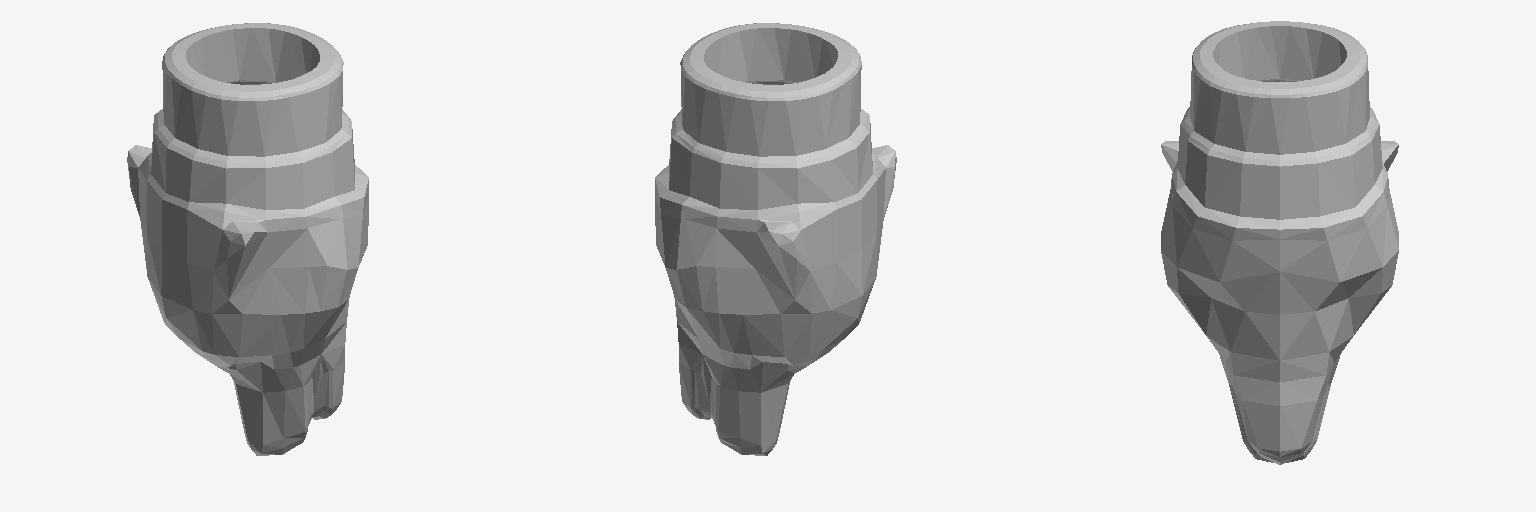
Rendered from LongClawWolf.obj.
The picture shows the model from 3 angles: view 1: azimuth 30°, elevation 25°; view 2: azimuth 150°, elevation 25°; view 3: azimuth 270°, elevation 25°; orthographic projection.
Visible parts, largest first — view 1: wolfhead; view 2: wolfhead; view 3: wolfhead.
Part boxes in pixels (left/top/right/bottom): wolfhead: left=127, top=23, right=368, bottom=455; wolfhead: left=655, top=23, right=896, bottom=455; wolfhead: left=1161, top=21, right=1398, bottom=464.
Size of the model in its own units: 3.15 by 6.38 by 3.44.